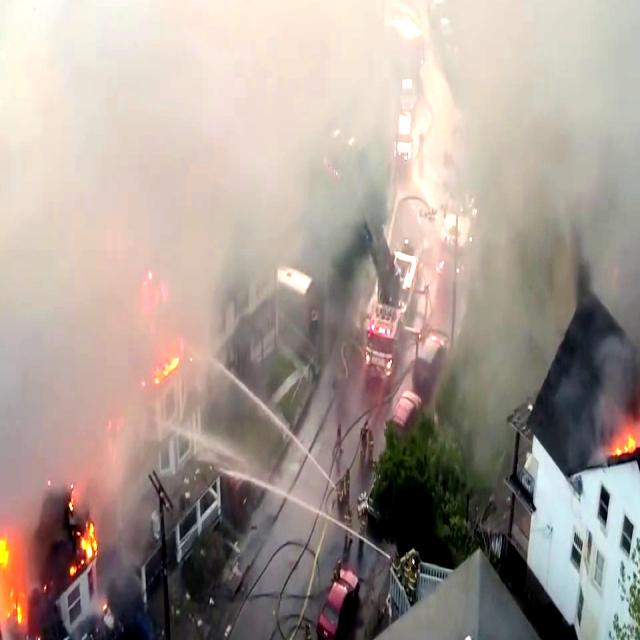fire: (0, 534, 29, 636)
smoke: (104, 0, 640, 183)
